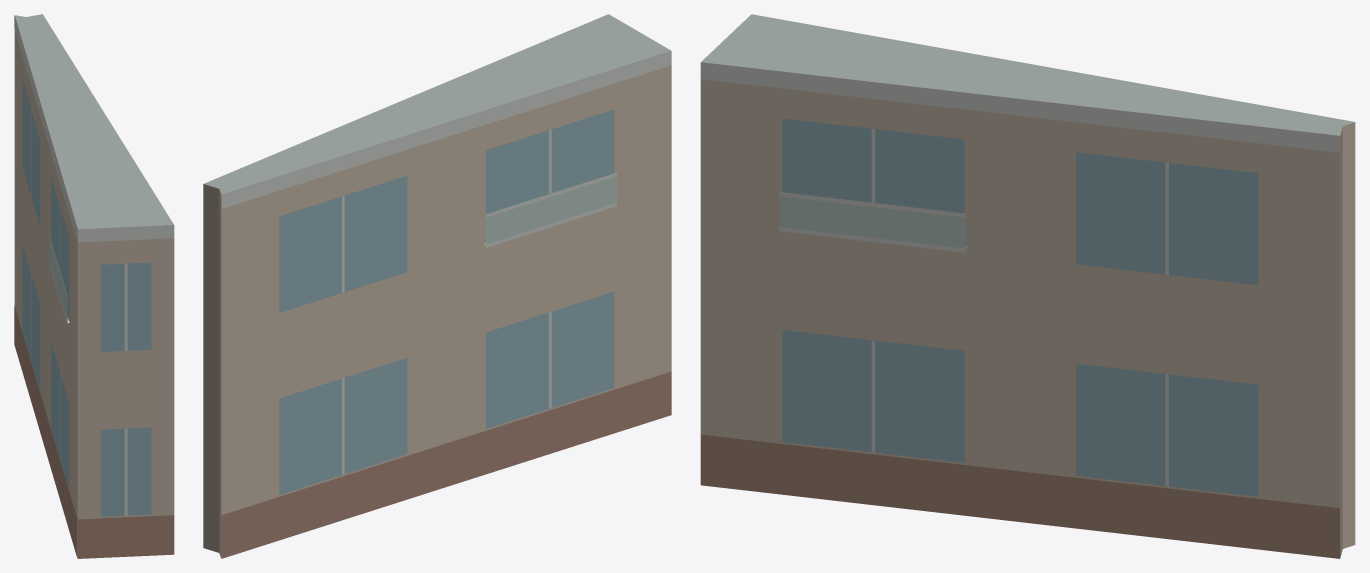
The model's file is survey-upis-33013889.glb.
3 views of the same model, side by side, from view 1: azimuth 30°, elevation 25°; view 2: azimuth 150°, elevation 25°; view 3: azimuth 270°, elevation 25° (orthographic). The views are drawn at different scales.
Parts seen in each view (by area): view 1: survey-upis-33013889.tmp; view 2: survey-upis-33013889.tmp; view 3: survey-upis-33013889.tmp.
Boxes of the visible parts, x1=… form: survey-upis-33013889.tmp: x1=14, y1=14, x2=174, y2=558; survey-upis-33013889.tmp: x1=203, y1=14, x2=671, y2=558; survey-upis-33013889.tmp: x1=700, y1=14, x2=1355, y2=558.
Bounding box in the file's own units: 3.78 × 6.1 × 8.57.
